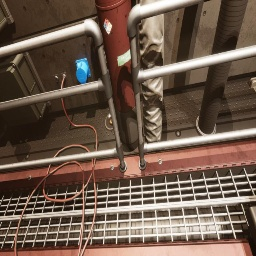NitrogenTank ,: (95, 0, 138, 144)
